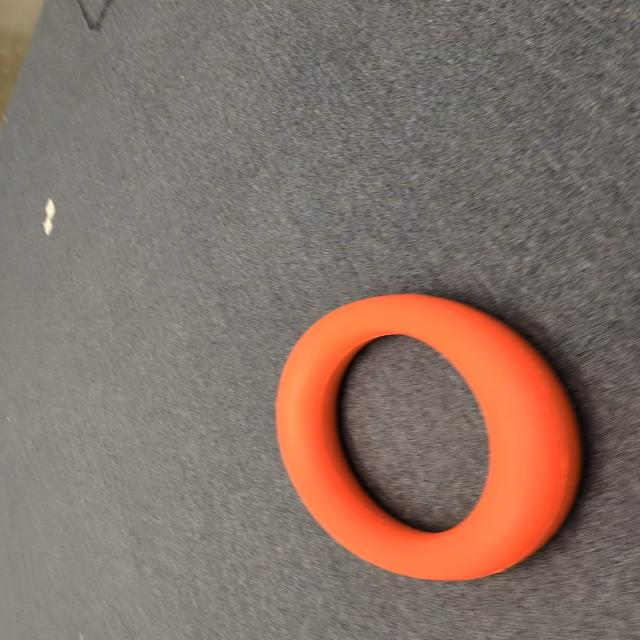note: (272, 290, 578, 574)
